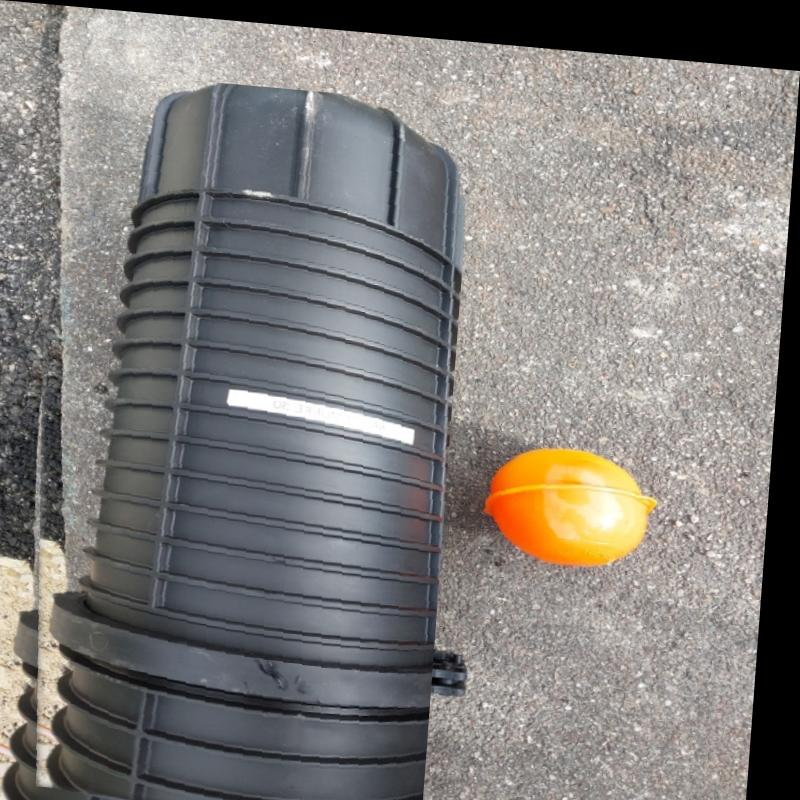Kugelmarker: (482, 435, 664, 558)
NT-Muffen: (3, 66, 475, 800)
